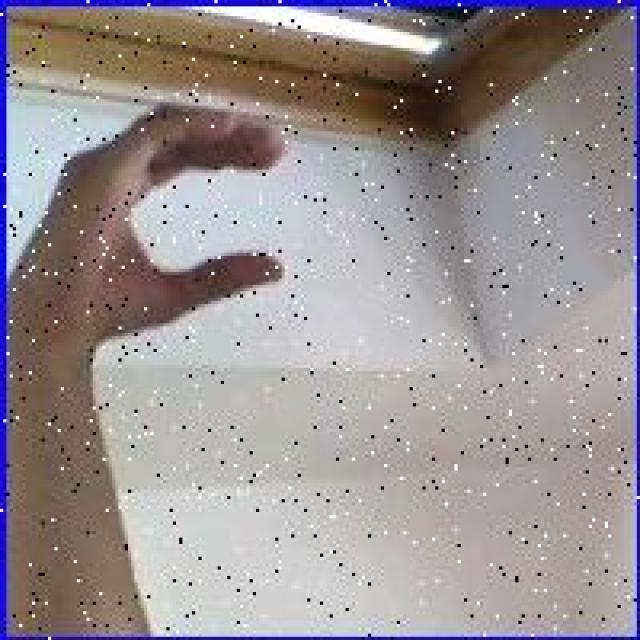C: (40, 93, 299, 349)
